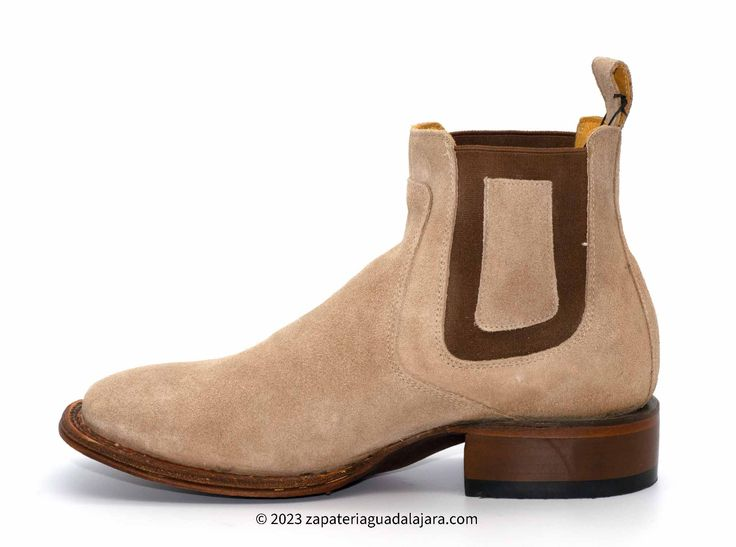gamuza: (82, 57, 661, 477)
